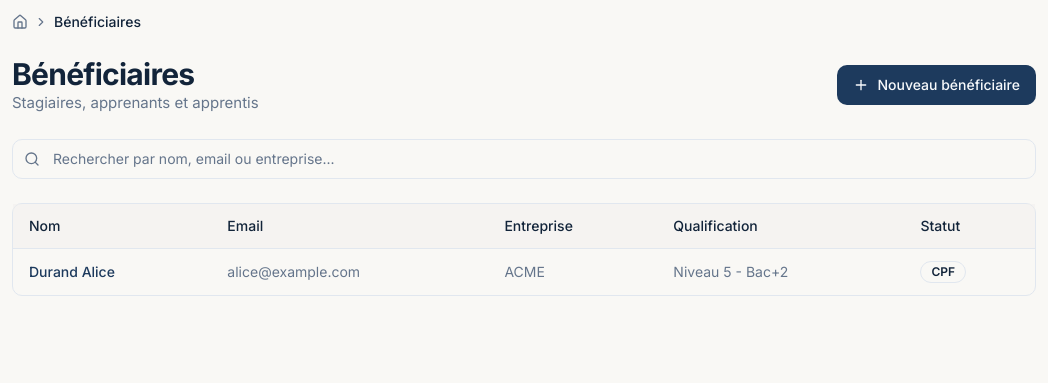
Test case: BeneficiariesListPage › shows "aucun résultat" when search filters everything out
This screenshot has width=1048, height=383.
Type "zzz" into the field with placeholder "Rechercher par nom, email ou entreprise..." at {"x": 524, "y": 158}, box [12, 138, 1036, 178]
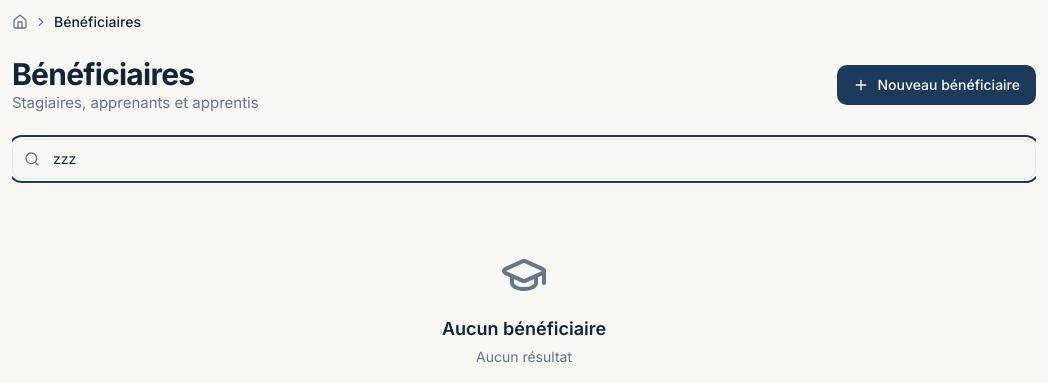
Check: the heading "Aucun bénéficiaire" is shown, box [442, 314, 606, 342]
Check: the text "Aucun résultat" is shown, box [476, 346, 572, 366]
